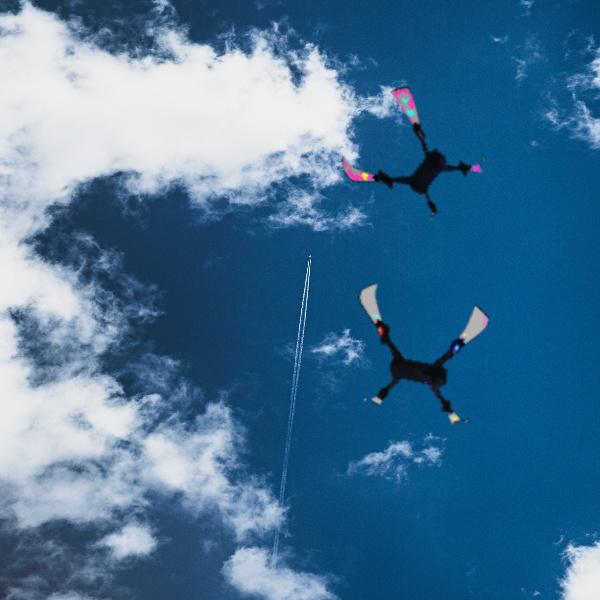drone: (346, 281, 496, 431), (339, 90, 480, 231)
